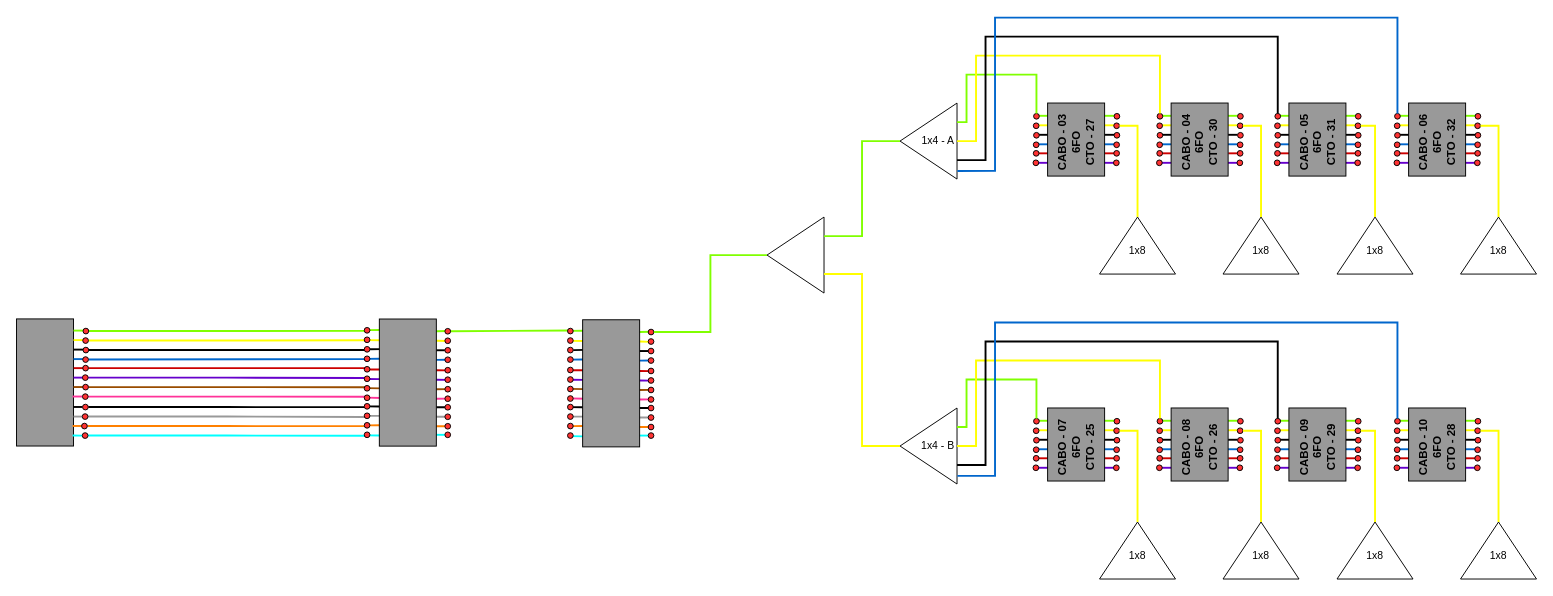
Some shapes in this 1553 by 596 pixel diagram are drawn without their labels. Here are the shapes that lost their labels. From the top down, the box of each, then its label:
(766, 216, 824, 293): 1x2 - A
(16, 318, 74, 446): CABO - 00 36FO TUBO - 01
(378, 318, 436, 446): CABO - 01 12FO CEO - 01
(582, 319, 640, 447): CABO - 02 12FO CEO - 02
